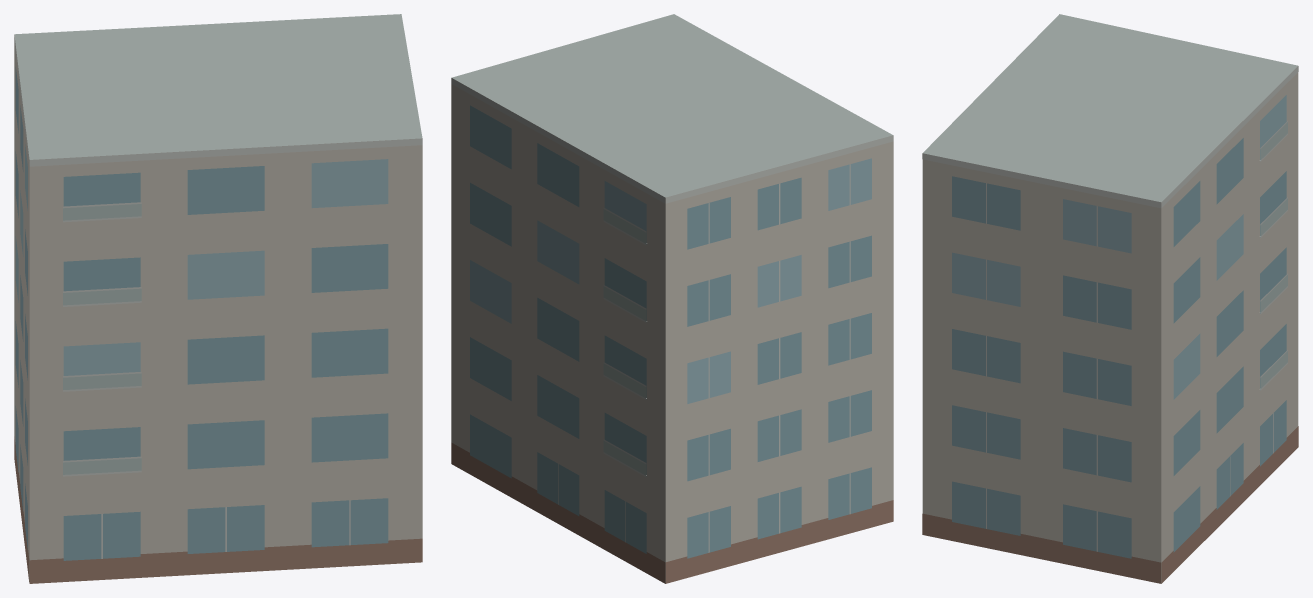
The model's file is survey-upis-32527550.glb.
3 renders of one model, left to right at view 1: azimuth 30°, elevation 25°; view 2: azimuth 150°, elevation 25°; view 3: azimuth 270°, elevation 25°, orthographic. The views are drawn at different scales.
Visible parts, largest first — view 1: survey-upis-32527550.tmp; view 2: survey-upis-32527550.tmp; view 3: survey-upis-32527550.tmp.
Part boxes in pixels (<box>): survey-upis-32527550.tmp: <box>14,14,422,583</box>; survey-upis-32527550.tmp: <box>451,14,893,583</box>; survey-upis-32527550.tmp: <box>922,14,1298,583</box>.
Size of the model in its own units: 16.15 by 15.25 by 13.63.
